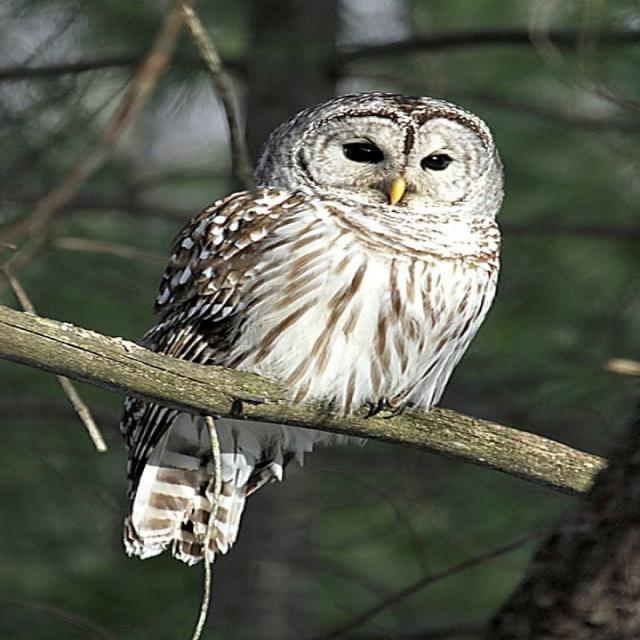owl: (139, 93, 504, 414)
